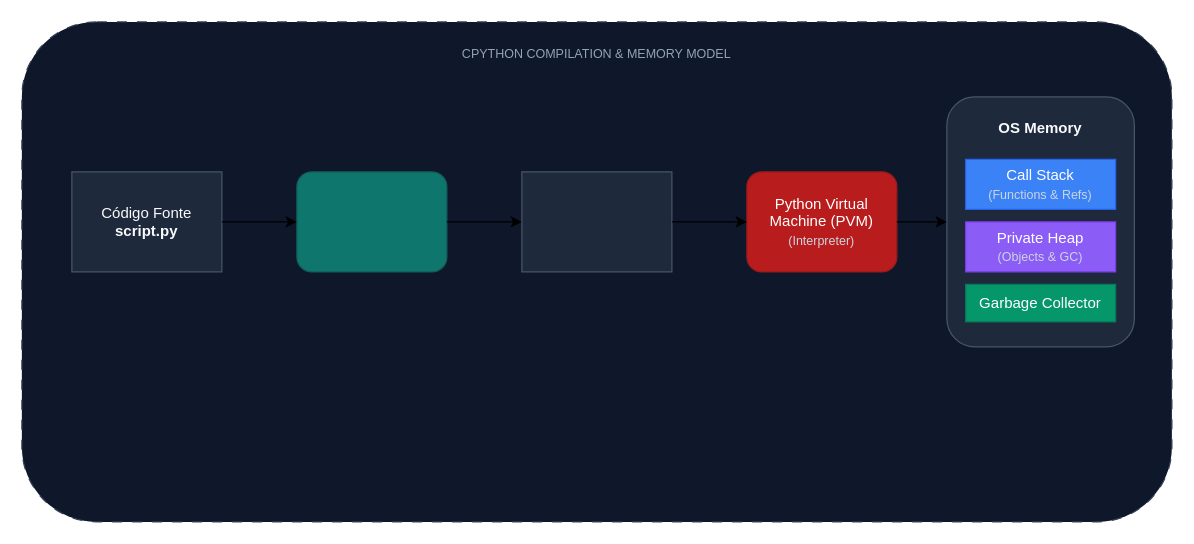
Some shapes in this 1194 by 544 pixel diagram are drawn without their labels. The box of each missing label's shape, as (x1, y1, x2, y2) in pixels:
Bytecode script.pyc (__pycache__): (521, 171, 672, 272)
Compiler (Lexing & Parsing): (296, 171, 447, 272)
